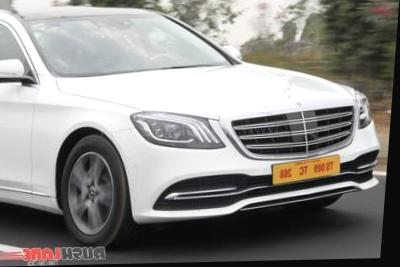License_Plate: (275, 154, 340, 186)
